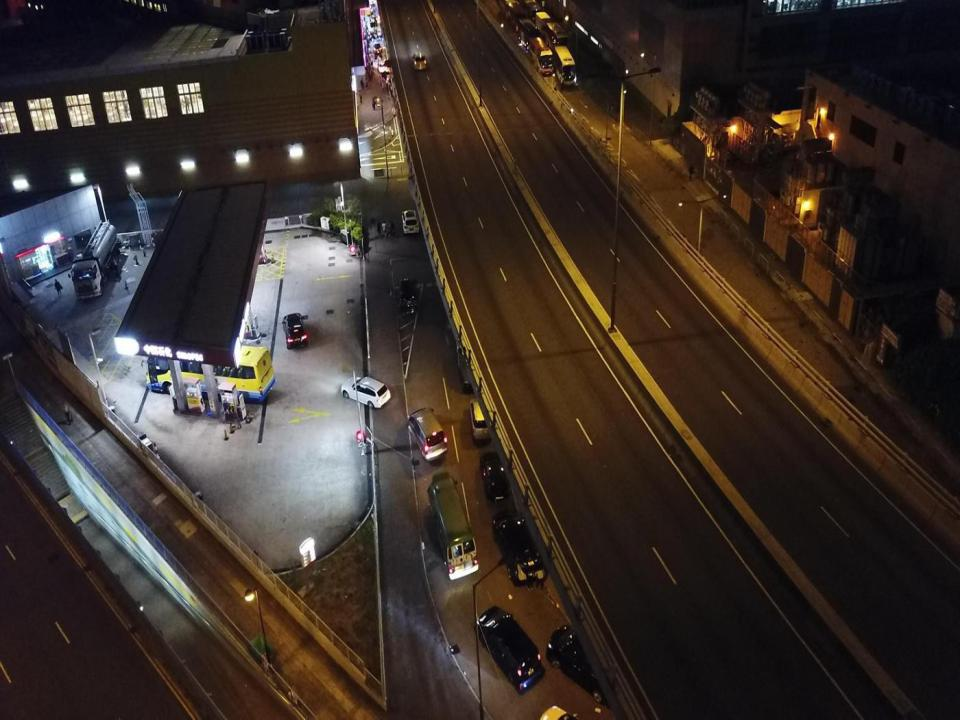bus: (144, 341, 276, 402), (428, 472, 479, 579), (514, 16, 541, 53), (553, 46, 577, 86), (529, 36, 553, 76), (544, 22, 569, 53), (498, 0, 525, 26), (520, 0, 538, 20)
car: (548, 623, 627, 709), (475, 606, 543, 692), (341, 376, 391, 408), (480, 452, 508, 501), (457, 346, 483, 392), (282, 313, 308, 349), (402, 209, 420, 234), (412, 52, 426, 71)
truck: (69, 218, 120, 300), (536, 12, 550, 34)
van: (492, 508, 543, 587), (407, 408, 447, 460), (470, 398, 492, 442), (399, 278, 418, 314)
